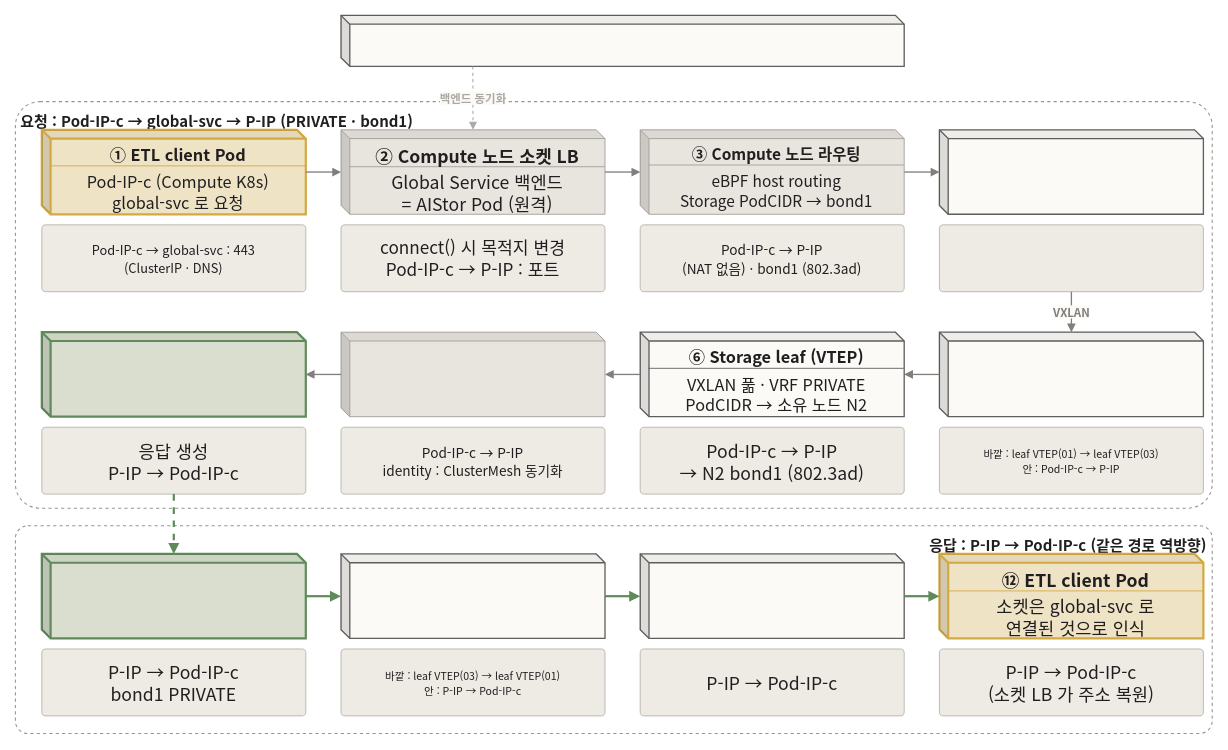
Image size: 1228x750. Some labels were removed from this diagram. Here are the shapes that lost their labels. From the top down, the centre of each, then its label:
At (622,40): "ClusterMesh (제어) : KVStoreMesh global-svc 백엔드 · identity 를 Compute 클러스터에 동기화".
At (1071,172): "④ Compute leaf (VTEP) VRF PRIVATE PodCIDR Type-5 → VXLAN".
At (1071,258): "바깥 : leaf VTEP(01) → leaf VTEP(03) UDP 4789 · L3VNI PRIVATE 안 : Pod-IP-c → P-IP".
At (173,374): "⑧ AIStor Pod S3 PUT 처리 client IP = Pod-IP-c".
At (472,374): "⑦ Storage 노드 N2 (bond1) eBPF host routing 정책 확인 → netkit".
At (1071,374): "⑤ Spine · Super Spine DCNY01 → DCNY03 구간 간 링크 · ECMP".
At (173,595): "⑨ N2 (bond1) 역방향 그대로 NAT 없음".
At (472,596): "⑩ Storage leaf · Spine VRF PRIVATE VXLAN → Compute leaf".
At (771,596): "⑪ Compute leaf VXLAN 풂 → Compute 노드 bond1".
